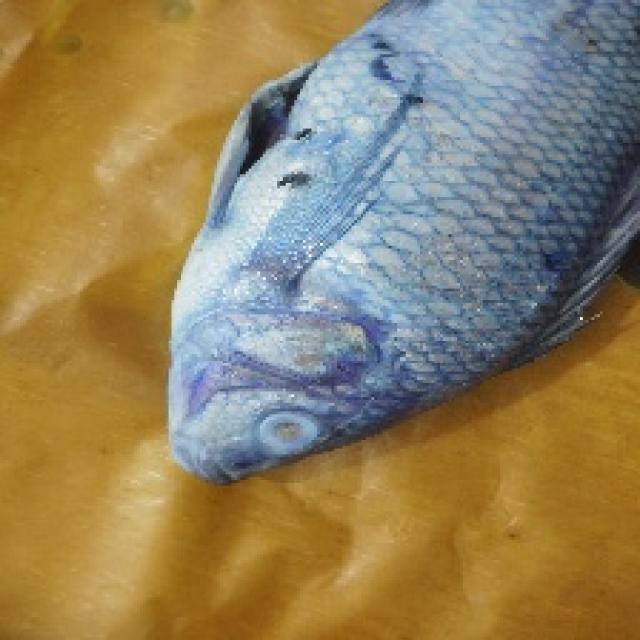Non-Fresh: (162, 0, 522, 489), (245, 393, 334, 474)
